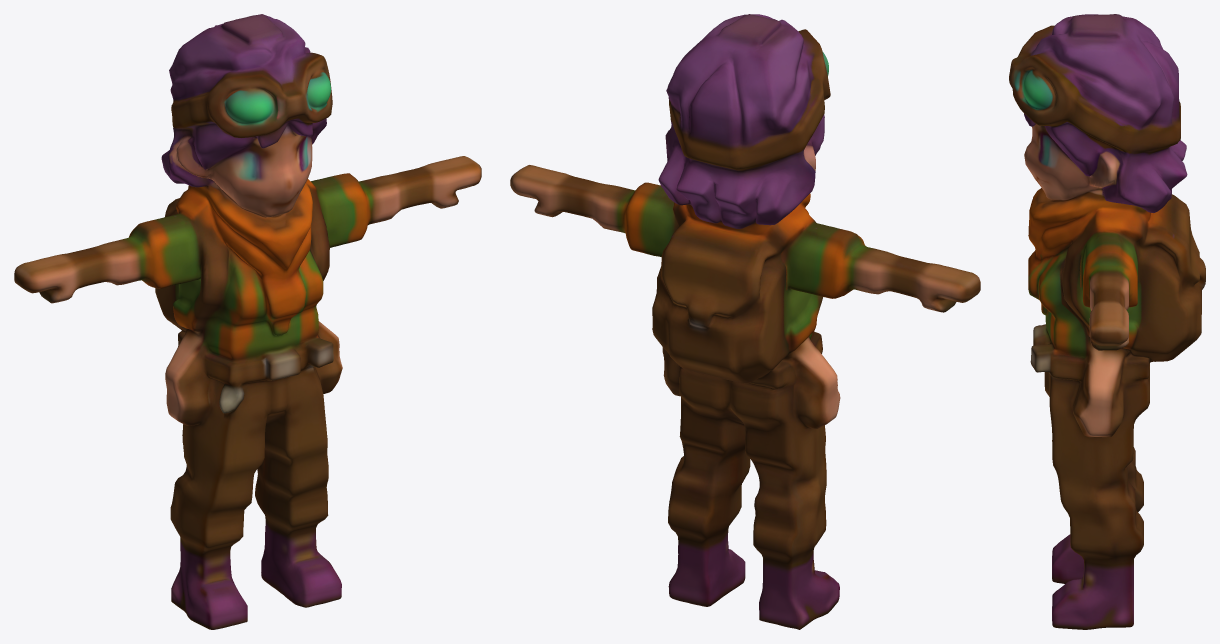
The model's file is anands-tripo-tpose.glb.
3 views of the same model, side by side, from view 1: azimuth 30°, elevation 25°; view 2: azimuth 150°, elevation 25°; view 3: azimuth 270°, elevation 25° (orthographic).
Parts seen in each view (by area): view 1: tripo_node_07e2bb37; view 2: tripo_node_07e2bb37; view 3: tripo_node_07e2bb37.
Boxes of the visible parts, x1,y1,x2,y2 form: tripo_node_07e2bb37: [14, 14, 481, 629]; tripo_node_07e2bb37: [510, 14, 980, 629]; tripo_node_07e2bb37: [1009, 14, 1205, 629].
Bounding box in the file's own units: 82.25 × 98.05 × 30.48.
1 material, 1 textured.
